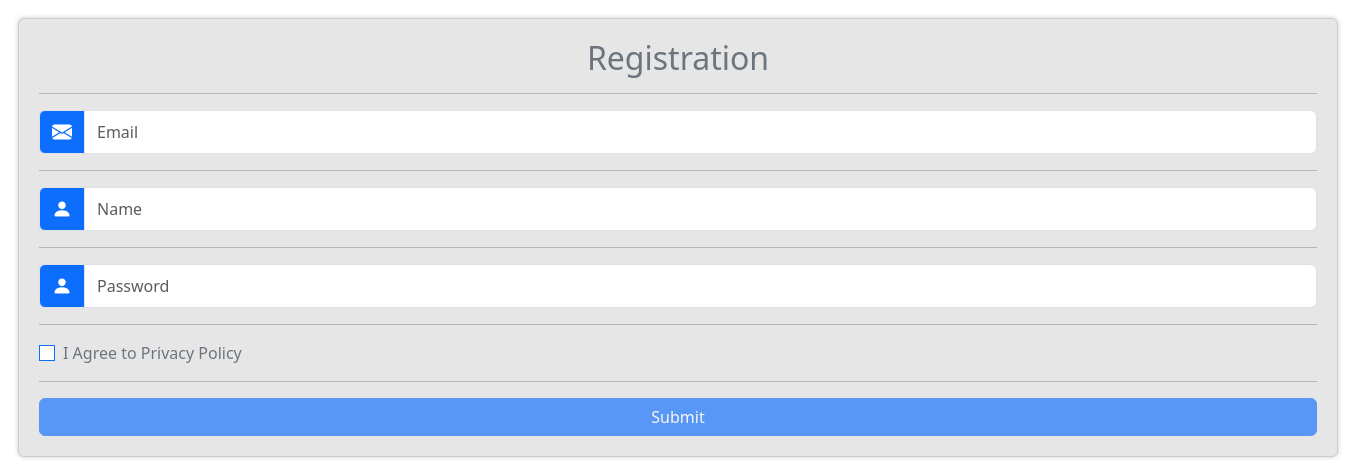
Test: Pruebas en <FormularioRegistro /> › debe de activar el botón submit al hacer check en las políticas de privacidad
Expected: the button with aria-label "btn-submit" is disabled, [39,398,1317,436]
Click the checkbox named "check-privacy-policy": (47, 353) [39,345,55,361]
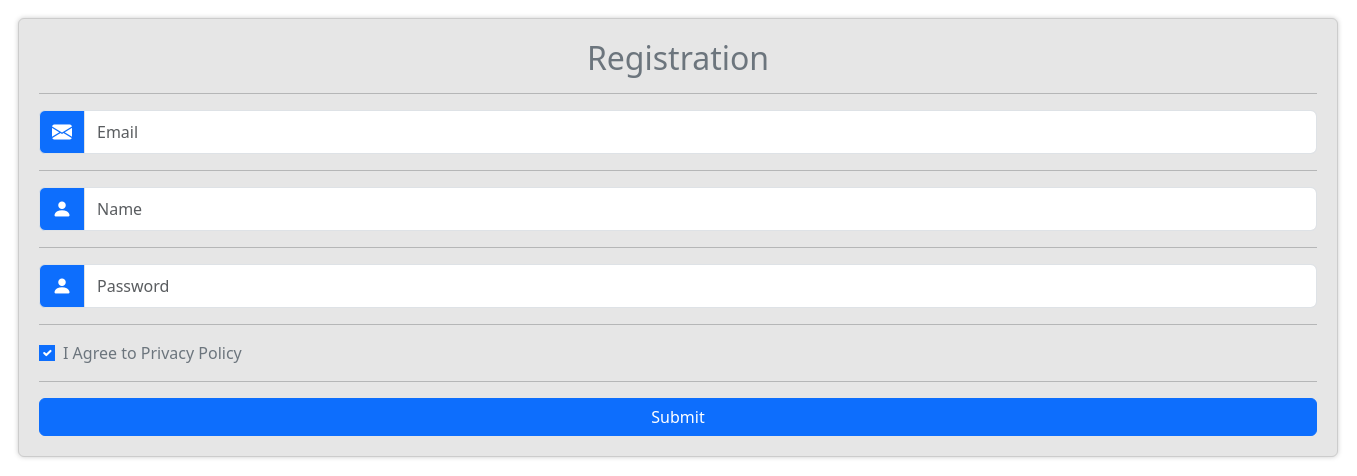
Expected: the button with aria-label "btn-submit" is enabled, [39,398,1317,436]
